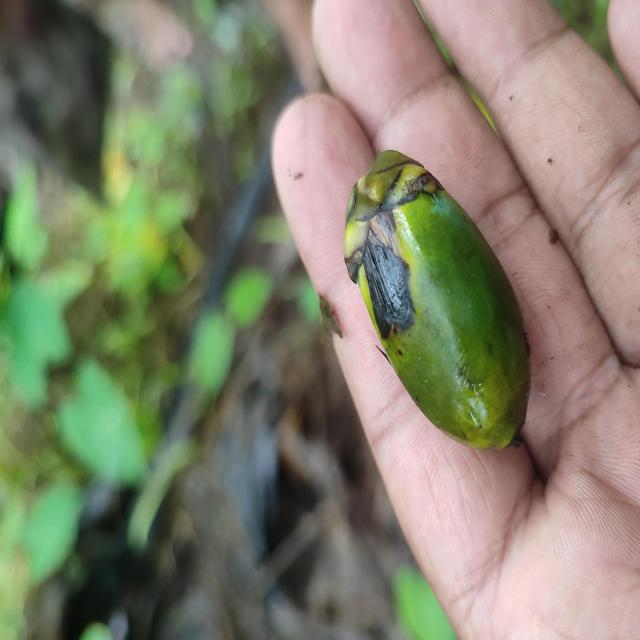damaged: (343, 151, 531, 452)
